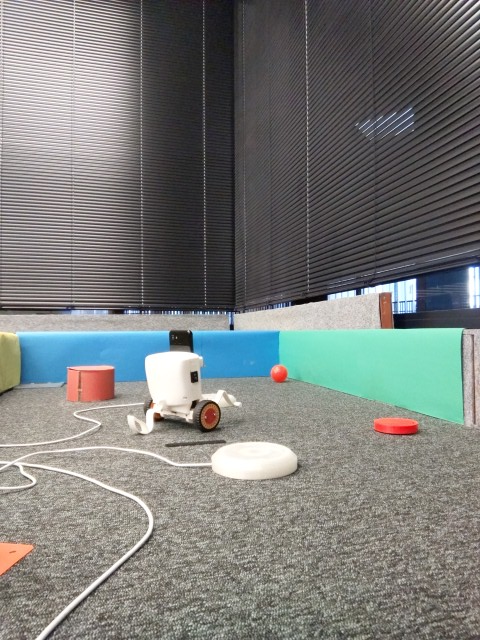br: (123, 321, 240, 434)
o: (208, 437, 301, 483)
